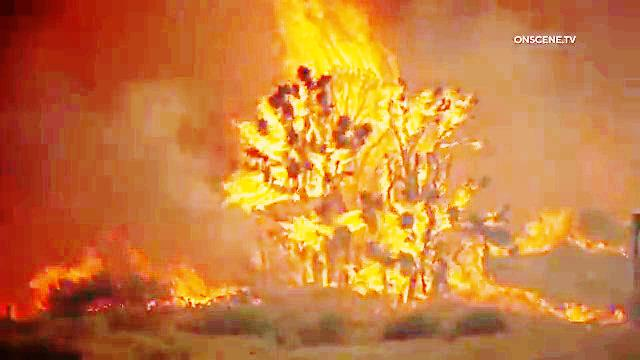fire: (176, 21, 469, 286), (1, 206, 192, 301)
